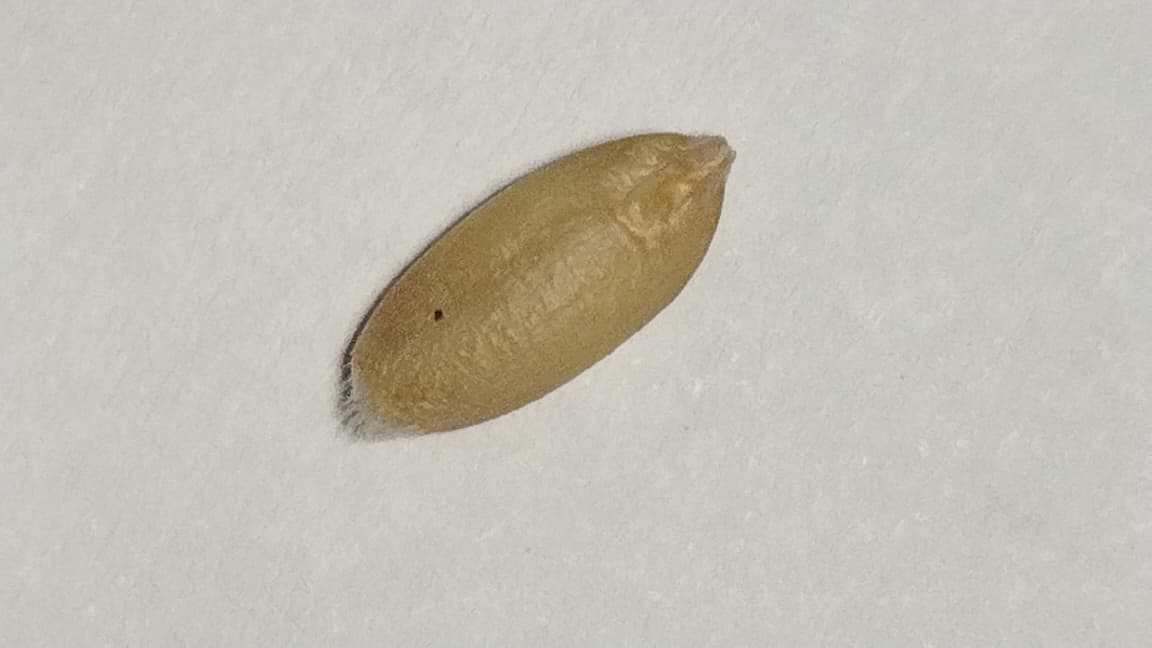healthy: (346, 133, 733, 437)
